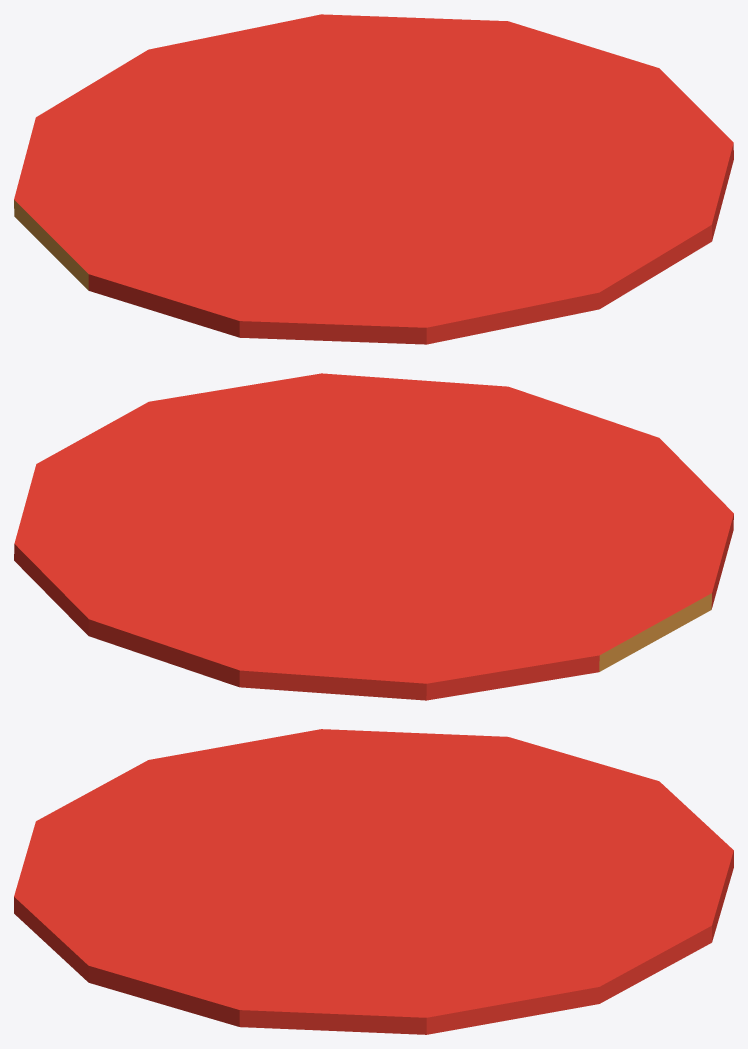
Rendered from SalasaTomate.fbx.
The picture shows the model from 3 angles, top to bottom: view 1: azimuth 30°, elevation 25°; view 2: azimuth 150°, elevation 25°; view 3: azimuth 270°, elevation 25°; orthographic projection.
Visible parts, largest first — view 1: model.002; view 2: model.002; view 3: model.002.
Boxes of the visible parts, x1,y1,x2,y2 form: model.002: (14, 14, 733, 344); model.002: (14, 373, 733, 700); model.002: (14, 729, 733, 1034).
Bounding box in the file's own units: 209 × 10.36 × 209.
